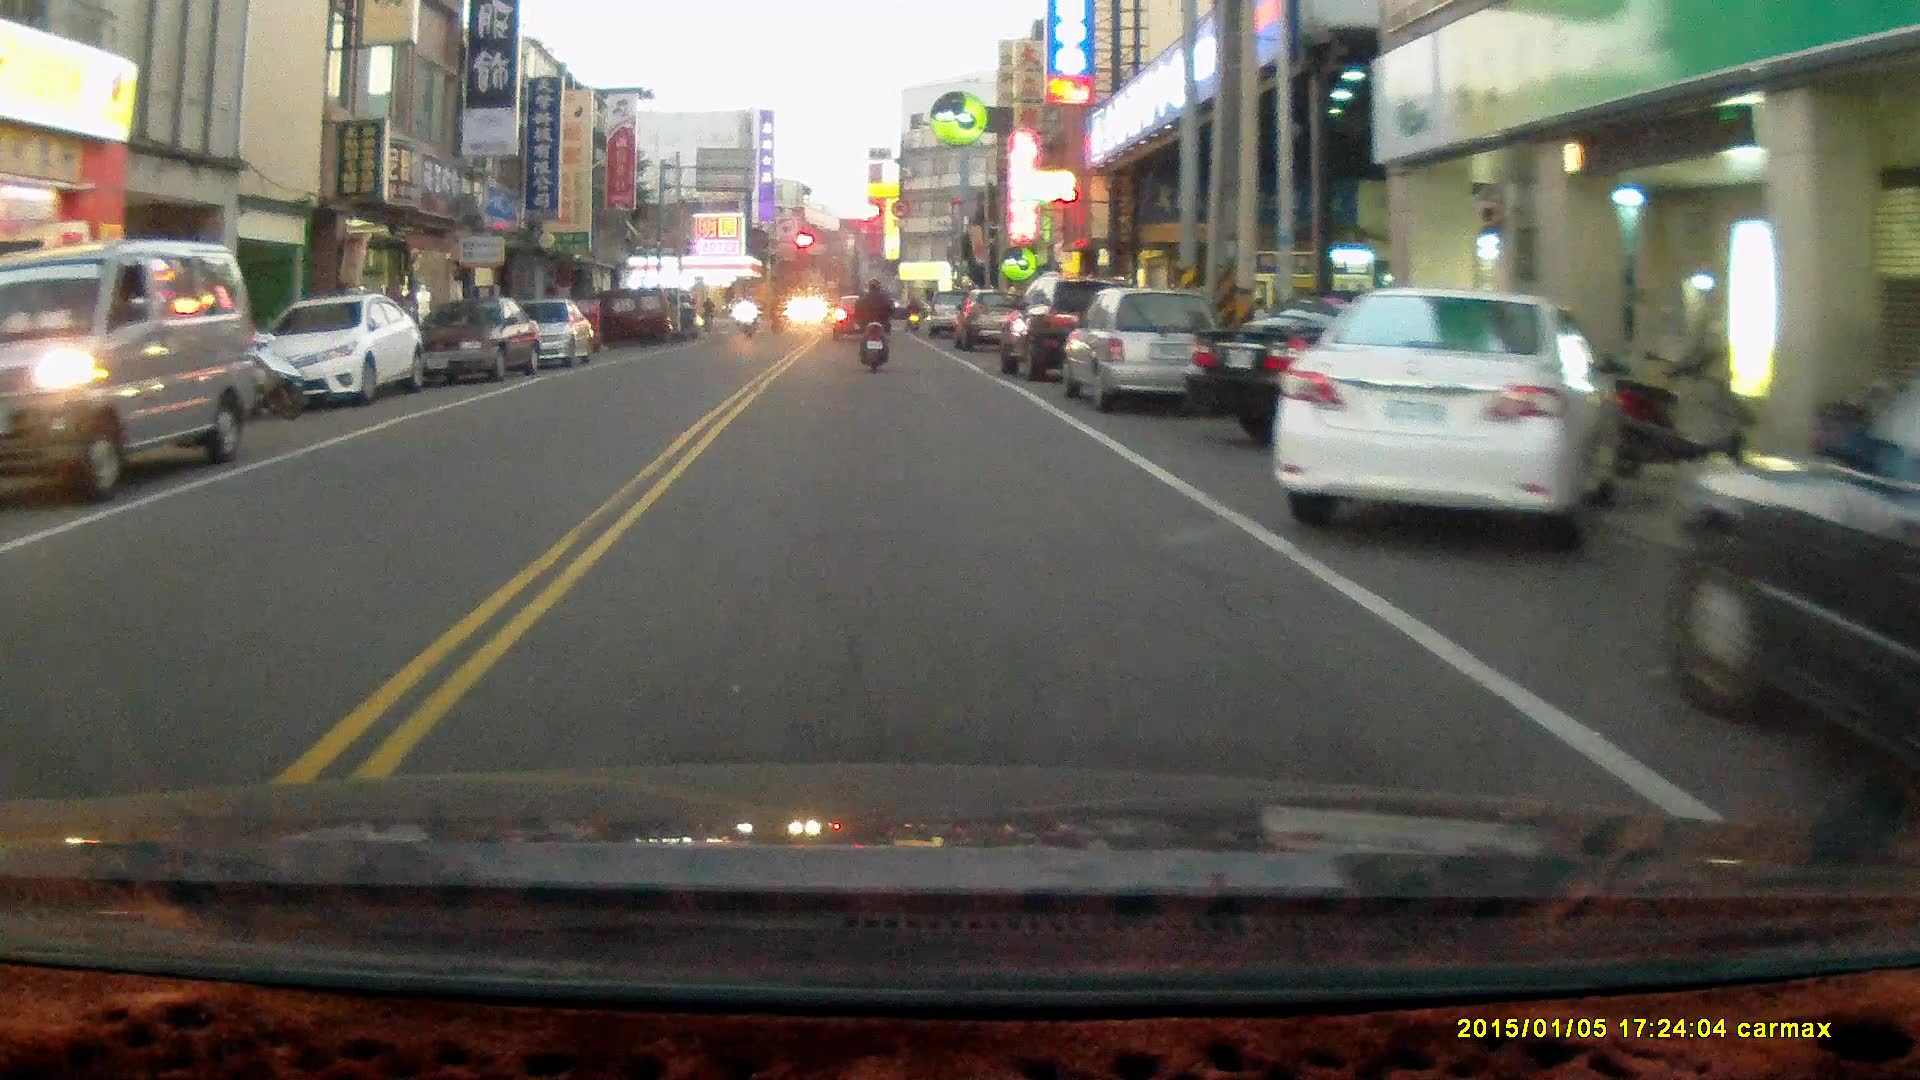rider: (244, 313, 306, 422), (852, 274, 895, 375), (733, 293, 757, 338)
vehicle: (1649, 337, 1920, 811), (1278, 288, 1621, 546), (2, 239, 264, 502), (1185, 294, 1566, 452), (1064, 285, 1233, 412), (257, 293, 423, 411), (996, 283, 1139, 380), (408, 297, 544, 385), (486, 300, 592, 375)
